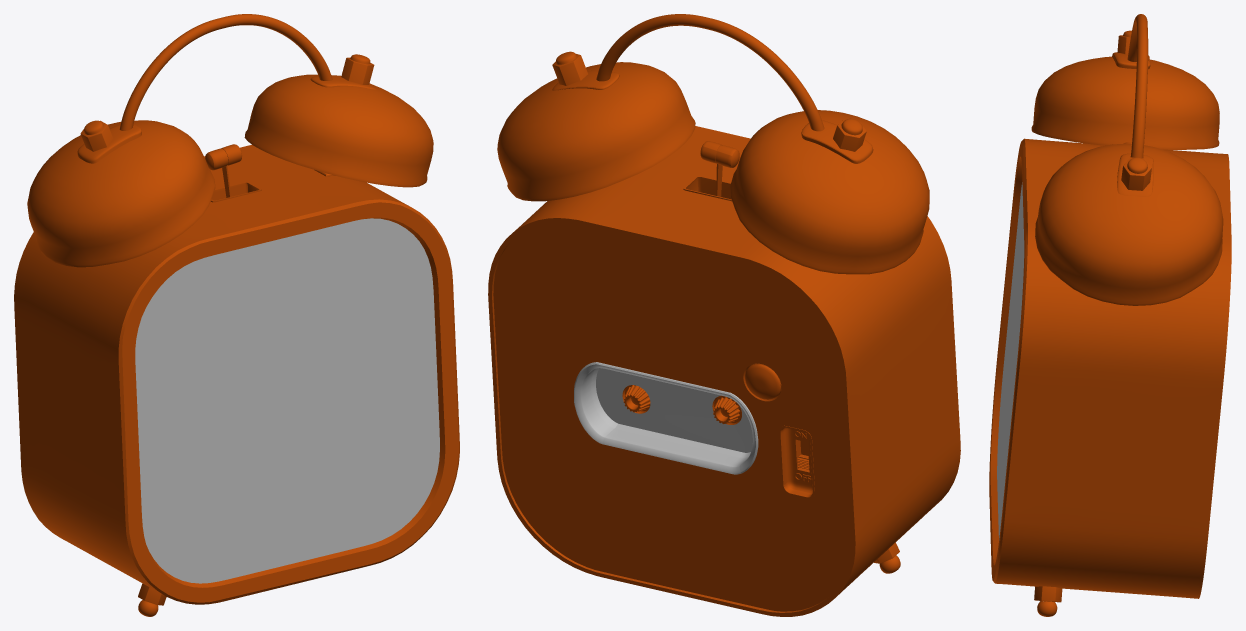
The model's file is Clock.glb.
The picture shows the model from 3 angles, left to right: view 1: azimuth 30°, elevation 25°; view 2: azimuth 150°, elevation 25°; view 3: azimuth 270°, elevation 25°; orthographic projection. The views are drawn at different scales.
Parts seen in each view (by area): view 1: TableClockQuartzModel; view 2: TableClockQuartzModel; view 3: TableClockQuartzModel.
Part boxes in pixels (bbox=[...]): TableClockQuartzModel: bbox=[14, 14, 459, 616]; TableClockQuartzModel: bbox=[488, 14, 960, 616]; TableClockQuartzModel: bbox=[989, 14, 1231, 616].
Size of the model in its own units: 0.1078 by 0.1433 by 0.0594.
